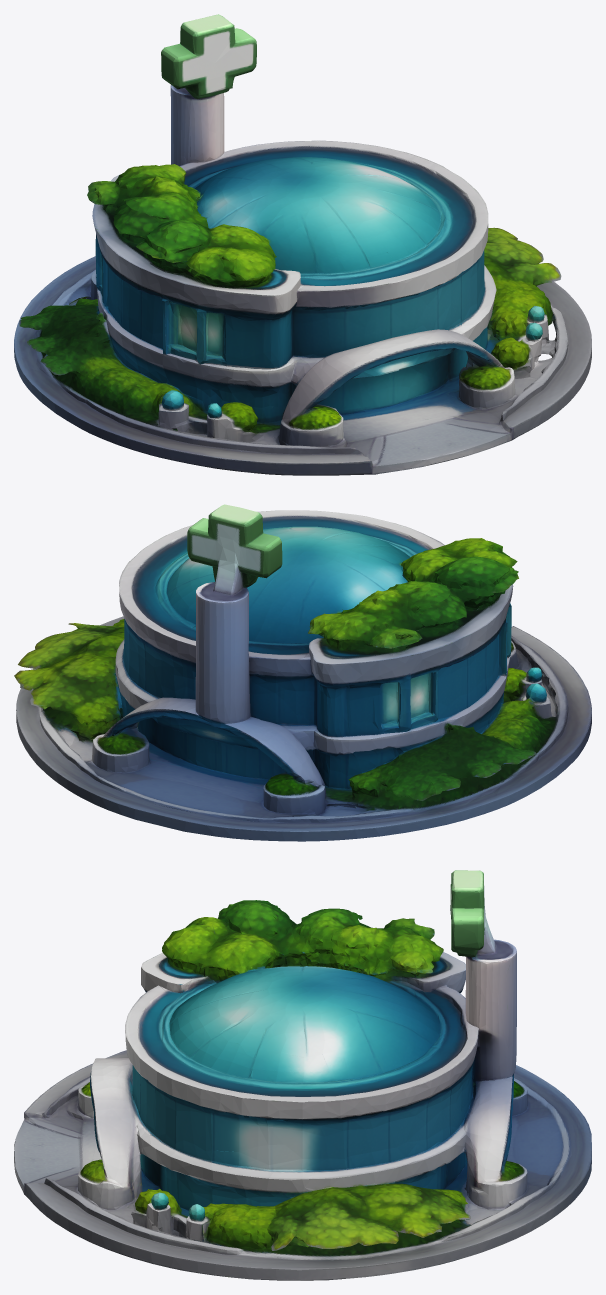
The model's file is hospitals.glb.
3 renders of one model, top to bottom at view 1: azimuth 30°, elevation 25°; view 2: azimuth 150°, elevation 25°; view 3: azimuth 270°, elevation 25°, orthographic.
Visible parts, largest first — view 1: world; view 2: world; view 3: world.
Boxes of the visible parts, bbox=[...] form: world: bbox=[14, 14, 591, 475]; world: bbox=[14, 504, 591, 841]; world: bbox=[14, 870, 591, 1280].
Bounding box in the file's own units: 1 × 0.5283 × 1.
Materials: 1 (1 with a texture image).
